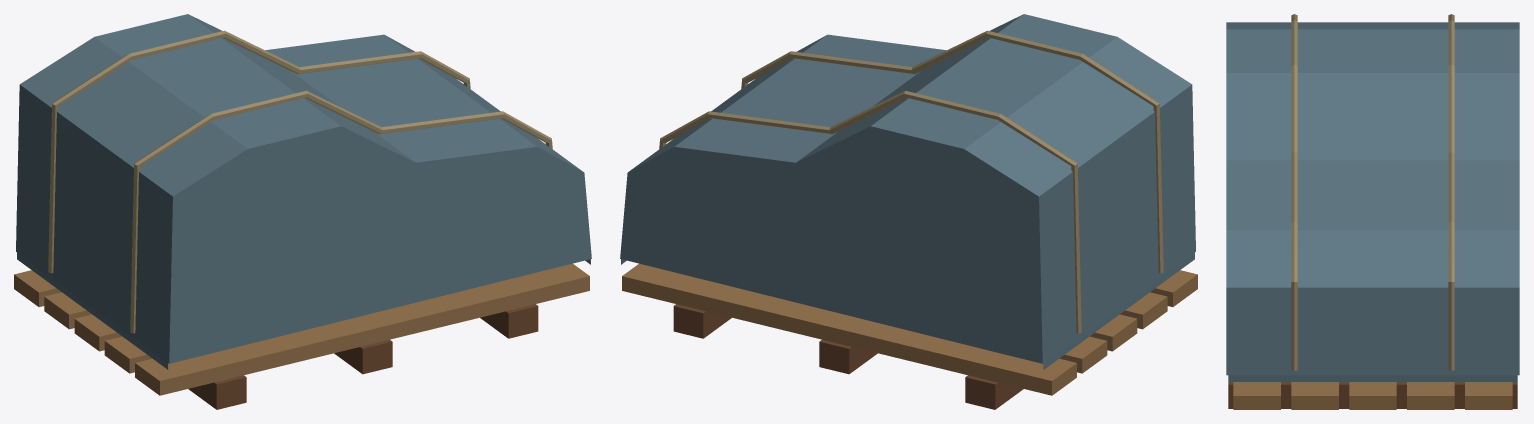
File: Prop_Daily_TarpaulinCargo_001.glb
3 renders of one model, left to right at view 1: azimuth 30°, elevation 25°; view 2: azimuth 150°, elevation 25°; view 3: azimuth 270°, elevation 25°, orthographic. The views are drawn at different scales.
Visible parts, largest first — view 1: Prop_Daily_TarpaulinCargo_001; view 2: Prop_Daily_TarpaulinCargo_001; view 3: Prop_Daily_TarpaulinCargo_001.
Boxes of the visible parts, <box> form: Prop_Daily_TarpaulinCargo_001: <box>14,14,591,409</box>; Prop_Daily_TarpaulinCargo_001: <box>620,14,1197,409</box>; Prop_Daily_TarpaulinCargo_001: <box>1226,14,1519,409</box>.
Size of the model in its own units: 2.31 by 1.35 by 1.42.
